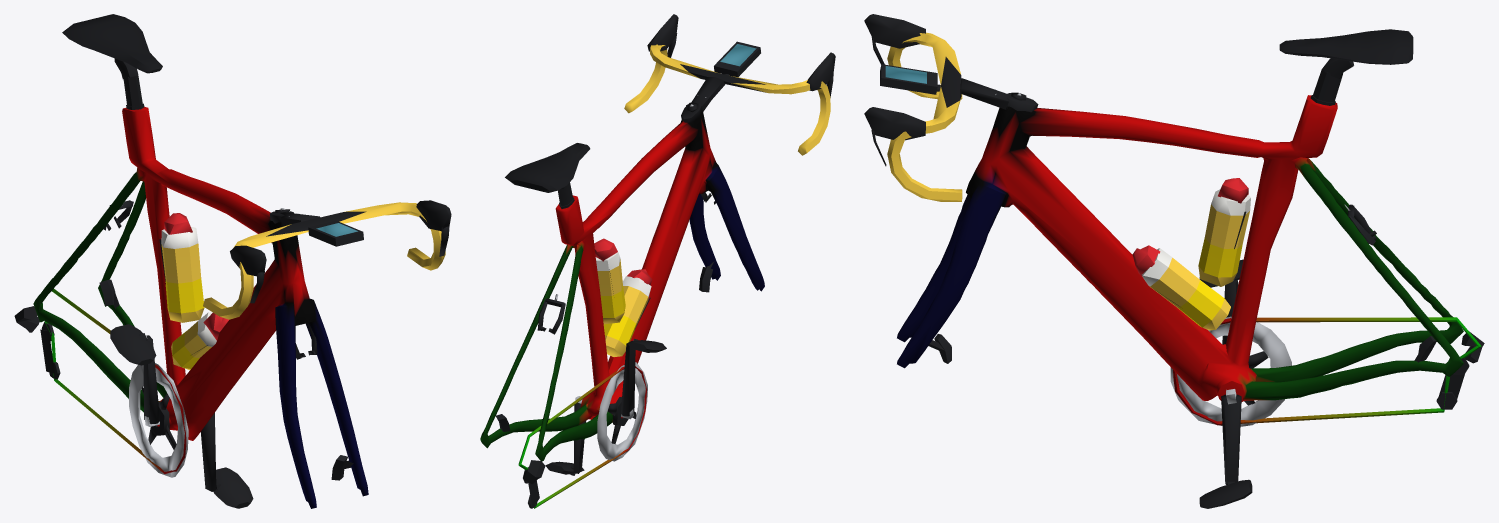
The model's file is madone_lod1.glb.
3 views of the same model, side by side, from view 1: azimuth 30°, elevation 25°; view 2: azimuth 150°, elevation 25°; view 3: azimuth 270°, elevation 25° (orthographic). The views are drawn at different scales.
Parts seen in each view (by area): view 1: frame, cockpit, opt_bottles, crankset, saddle, pedal_R, pedal_L, opt_derailleur, opt_brakes_disc, opt_brakes_rim; view 2: frame, cockpit, opt_bottles, crankset, saddle, opt_derailleur, opt_brakes_rim, opt_brakes_disc; view 3: frame, cockpit, opt_bottles, crankset, saddle, opt_derailleur, pedal_L, opt_brakes_disc.
Part boxes in pixels (x1,y1,x2,y2): frame: [33, 106, 368, 508]; cockpit: [203, 200, 451, 319]; opt_bottles: [159, 213, 228, 370]; crankset: [129, 335, 216, 491]; saddle: [62, 14, 162, 109]; pedal_R: [110, 324, 156, 365]; pedal_L: [213, 467, 253, 508]; opt_derailleur: [14, 306, 60, 379]; opt_brakes_disc: [99, 279, 353, 480]; opt_brakes_rim: [103, 200, 317, 359]; frame: [480, 110, 764, 508]; cockpit: [624, 14, 835, 155]; opt_bottles: [594, 238, 652, 356]; crankset: [573, 341, 647, 473]; saddle: [505, 143, 590, 208]; opt_derailleur: [523, 460, 545, 508]; opt_brakes_rim: [537, 192, 715, 334]; opt_brakes_disc: [496, 261, 714, 431]; frame: [897, 95, 1481, 425]; cockpit: [864, 14, 1038, 201]; opt_bottles: [1132, 178, 1250, 330]; crankset: [1170, 280, 1291, 484]; saddle: [1279, 29, 1413, 105]; opt_derailleur: [1436, 331, 1484, 409]; pedal_L: [1199, 479, 1252, 508]; opt_brakes_disc: [928, 334, 1436, 363].
Size of the model in its own units: 0.4652 by 0.885 by 1.13.
